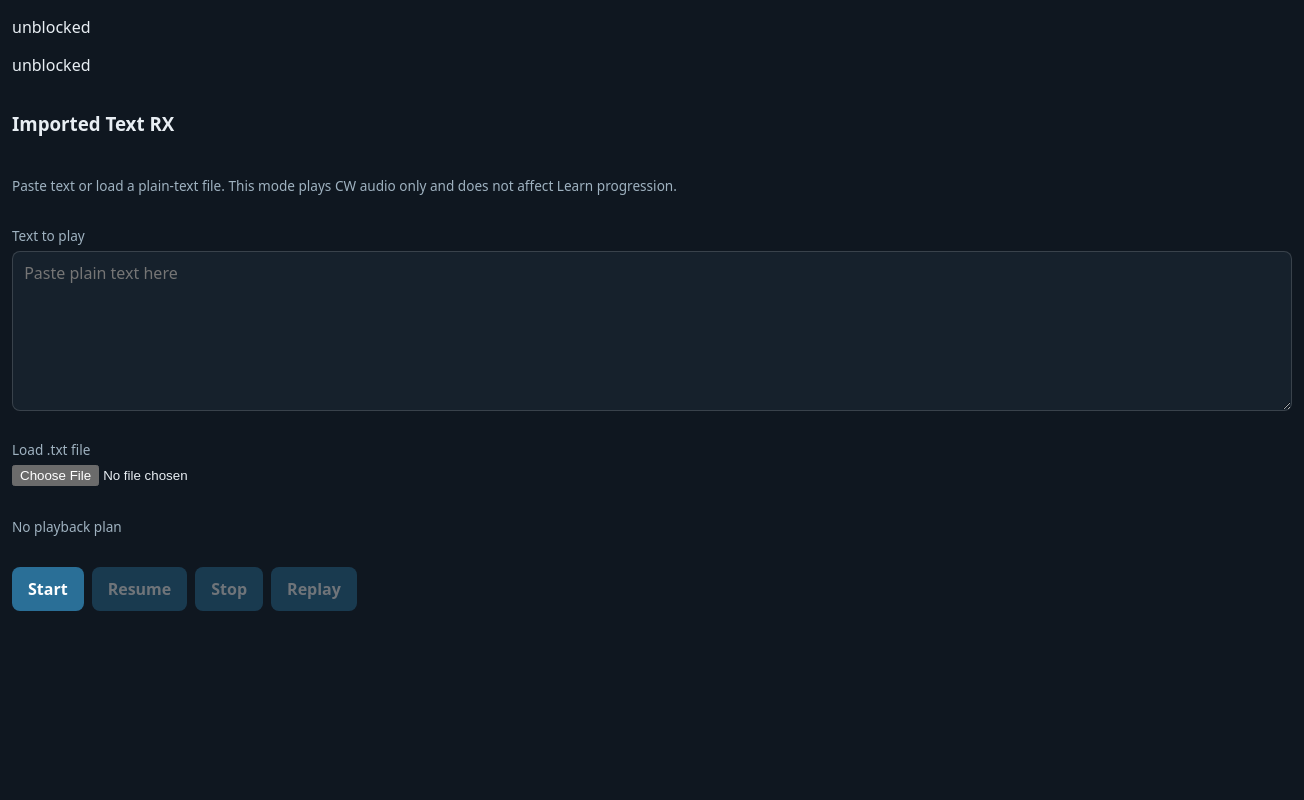
Test: ImportedTextPractice › normal stop returns the navigation guard to unblocked
This screenshot has width=1304, height=800.
In the text box named "Imported text": (652, 331) left=12, top=251, right=1292, bottom=411, type "A B"
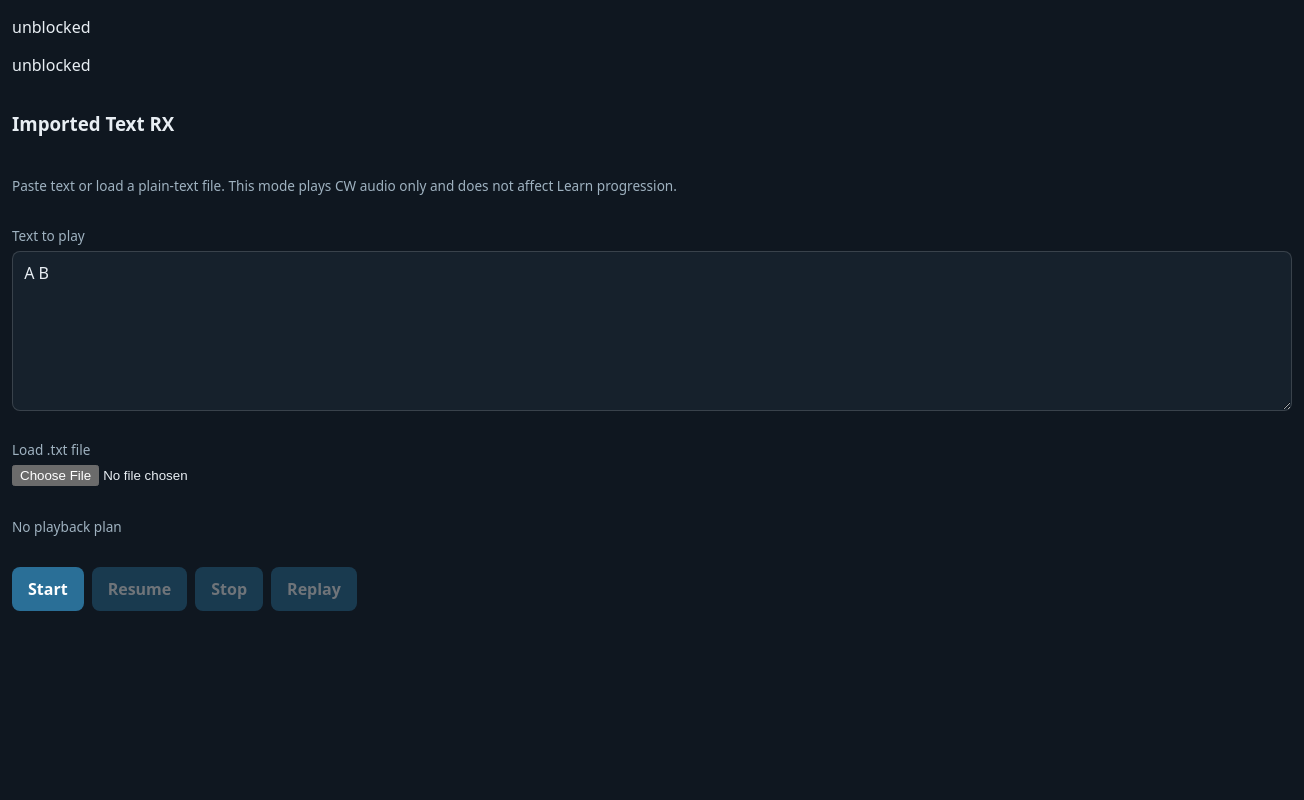
Click the button "Start": (48, 589) left=12, top=567, right=84, bottom=611
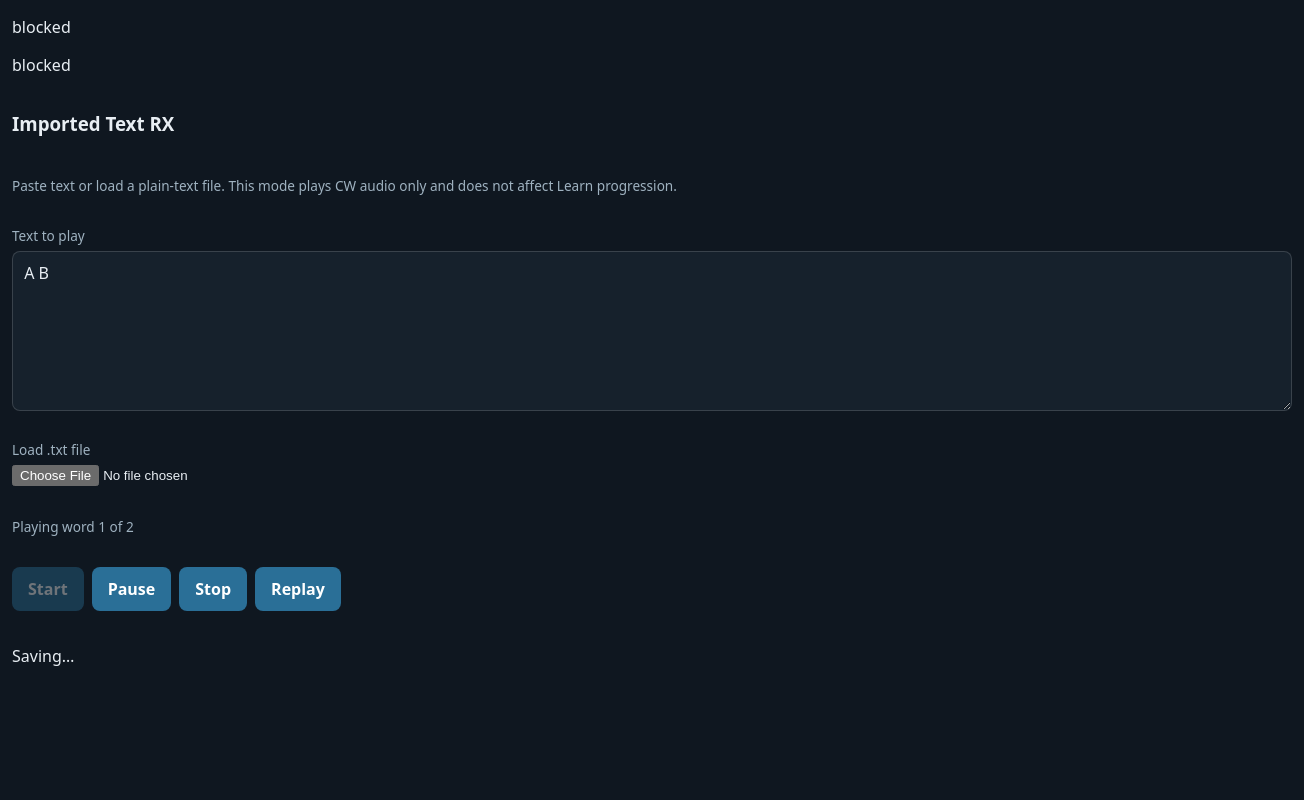
Result: the text named "Guard state" reads "blocked" at left=12, top=16, right=71, bottom=38
Click the button "Stop": (213, 589) left=179, top=567, right=247, bottom=611
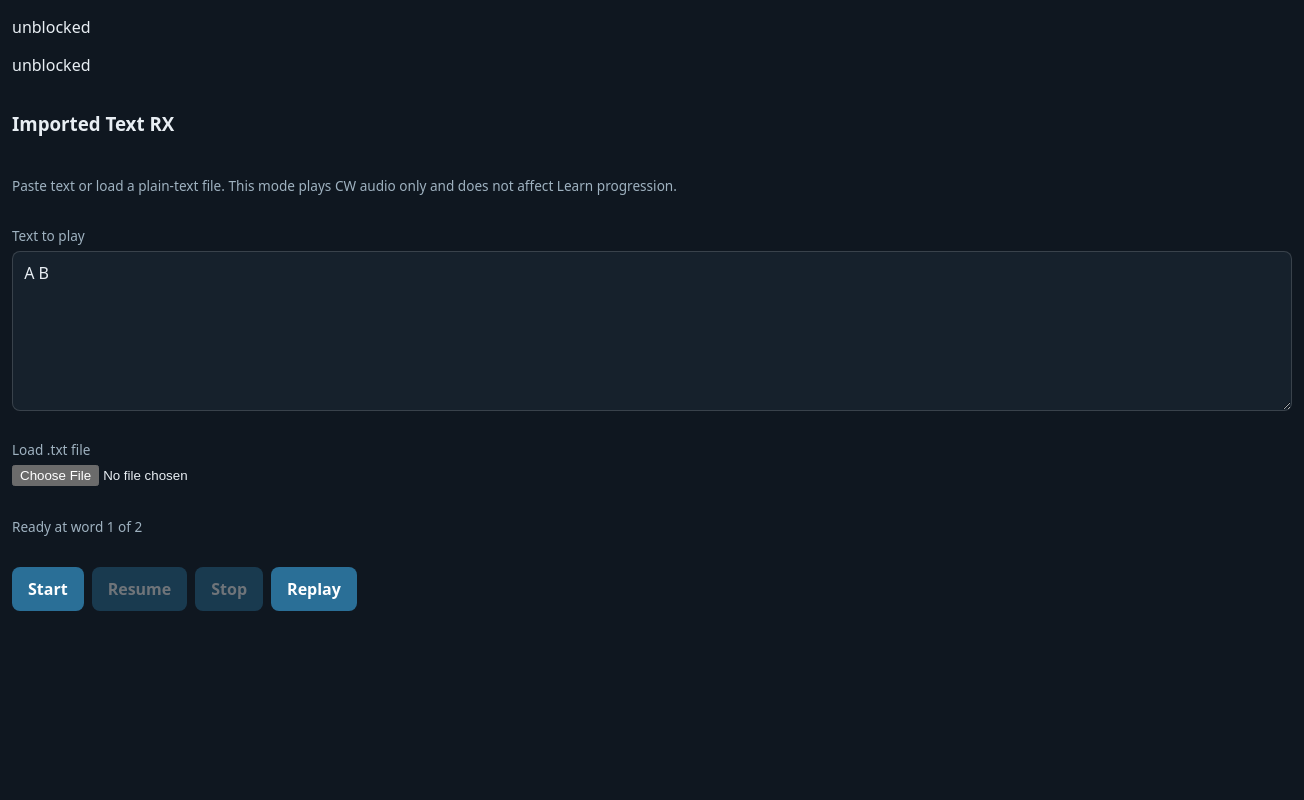
Result: the text named "Guard state" reads "unblocked" at left=12, top=16, right=90, bottom=38
Result: the text named "Reload safety state" reads "unblocked" at left=12, top=54, right=90, bottom=76
